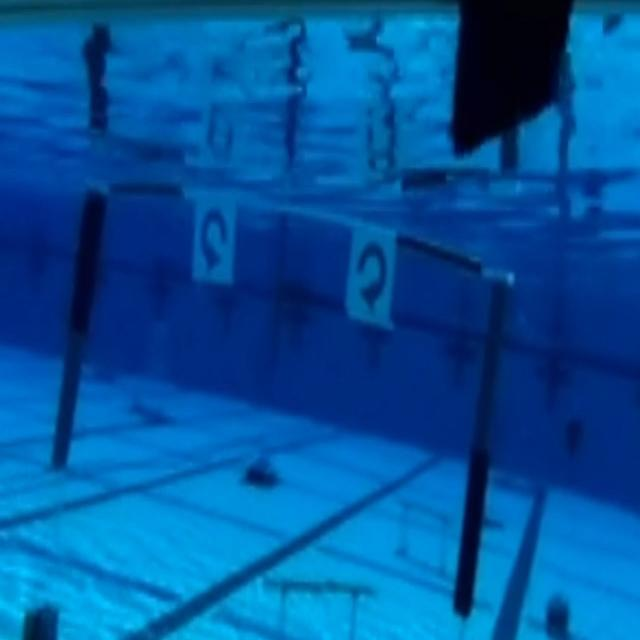Gate: (50, 170, 518, 640)
